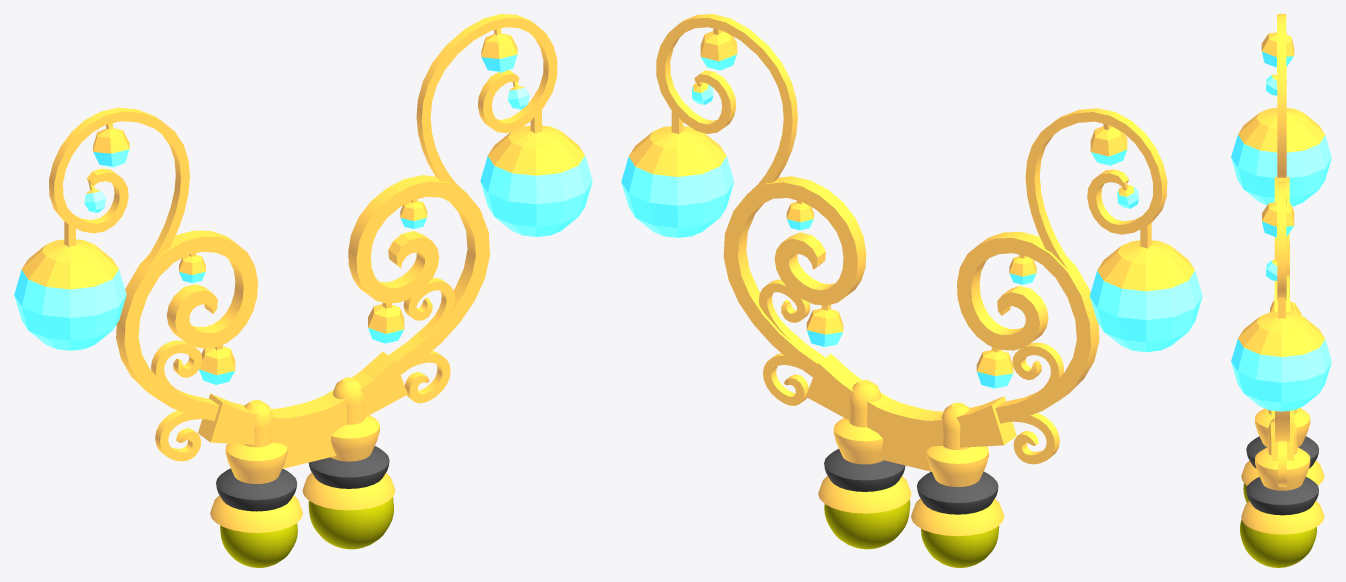
File: Streetlight_DistrictA.fbx
3 renders of one model, left to right at view 1: azimuth 30°, elevation 25°; view 2: azimuth 150°, elevation 25°; view 3: azimuth 270°, elevation 25°, orthographic. The views are drawn at different scales.
Parts seen in each view (by area): view 1: Streetlight_DistrictA, g__blaster; view 2: Streetlight_DistrictA, g__blaster; view 3: Streetlight_DistrictA.
Boxes of the visible parts, x1,y1,x2,y2 form: Streetlight_DistrictA: (14,14,592,549); g__blaster: (220,523,297,567); Streetlight_DistrictA: (621,14,1202,549); g__blaster: (921,526,999,567); Streetlight_DistrictA: (1231,14,1331,567).
Bounding box in the file's own units: 8.95 × 7.44 × 1.55.
